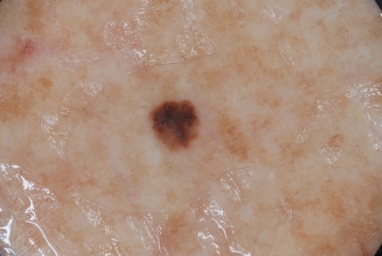seborrheic keratosis: (139, 92, 221, 165)
